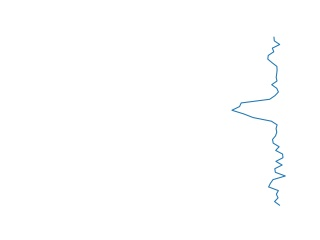interdistributaryEstuary: (228, 37, 289, 208)
